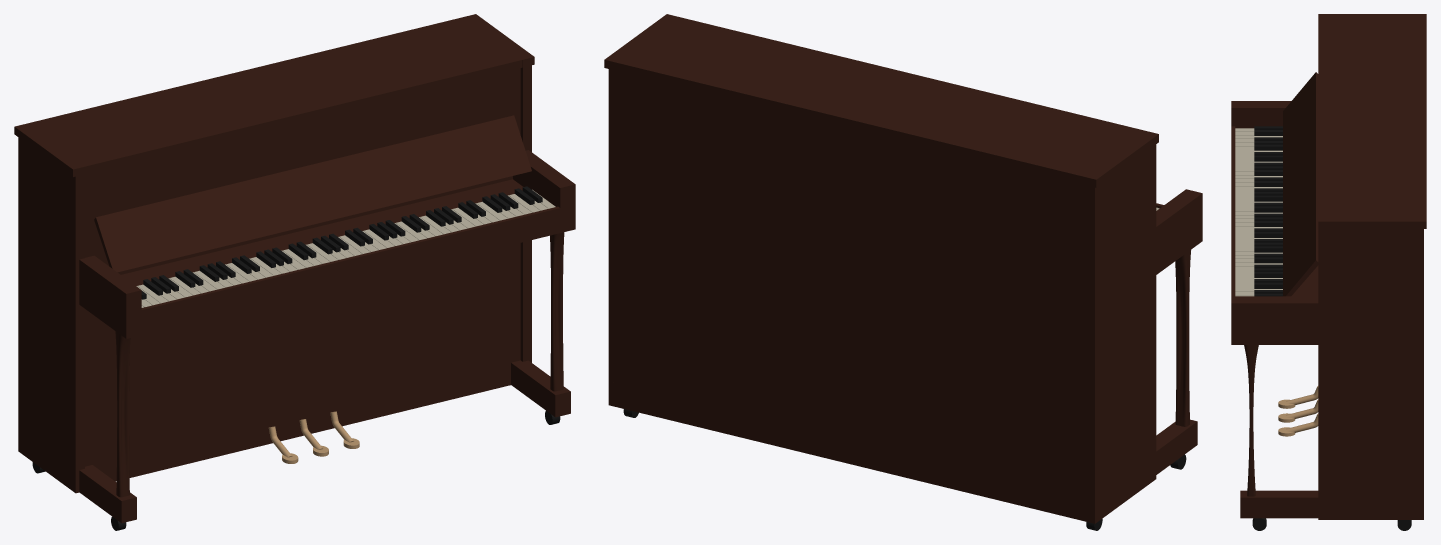
3 renders of one model, left to right at view 1: azimuth 30°, elevation 25°; view 2: azimuth 150°, elevation 25°; view 3: azimuth 270°, elevation 25°, orthographic. The views are drawn at different scales.
Parts seen in each view (by area): view 1: cabinet, lid, sloped_rail, front_rail, keyboard_bed, end_cheek.001, end_cheek, support.001, support, foot_beam, foot_beam.001; view 2: cabinet, lid, end_cheek.001, support.001, foot_beam.001; view 3: cabinet, lid, sloped_rail, end_cheek, foot_beam, end_cheek.001, support, front_rail, keyboard_bed, pedal_shank.001, pedal_shank.002, pedal_shank.003.
Boxes of the visible parts, x1,y1,x2,y2 form: cabinet: (18, 58, 531, 493); lid: (14, 14, 534, 176); sloped_rail: (94, 115, 531, 272); front_rail: (141, 206, 560, 334); keyboard_bed: (121, 179, 523, 285); end_cheek.001: (79, 255, 141, 338); end_cheek: (513, 150, 575, 232); support.001: (115, 331, 130, 497); support: (550, 232, 564, 391); foot_beam: (511, 360, 570, 417); foot_beam.001: (79, 465, 136, 523); cabinet: (608, 69, 1156, 523); lid: (604, 14, 1158, 187); end_cheek.001: (1156, 189, 1202, 274); support.001: (1175, 250, 1190, 426); foot_beam.001: (1075, 419, 1197, 522); cabinet: (1318, 229, 1423, 519); lid: (1318, 14, 1426, 228); sloped_rail: (1283, 72, 1318, 296); end_cheek: (1231, 296, 1318, 344); foot_beam: (1240, 490, 1318, 518); end_cheek.001: (1231, 101, 1291, 128); support: (1244, 345, 1258, 496); front_rail: (1231, 126, 1235, 296); keyboard_bed: (1291, 265, 1318, 296); pedal_shank.001: (1278, 386, 1318, 408); pedal_shank.002: (1278, 400, 1318, 422); pedal_shank.003: (1278, 414, 1318, 436).
Bounding box in the file's own units: 1.5 × 1.06 × 0.595.
